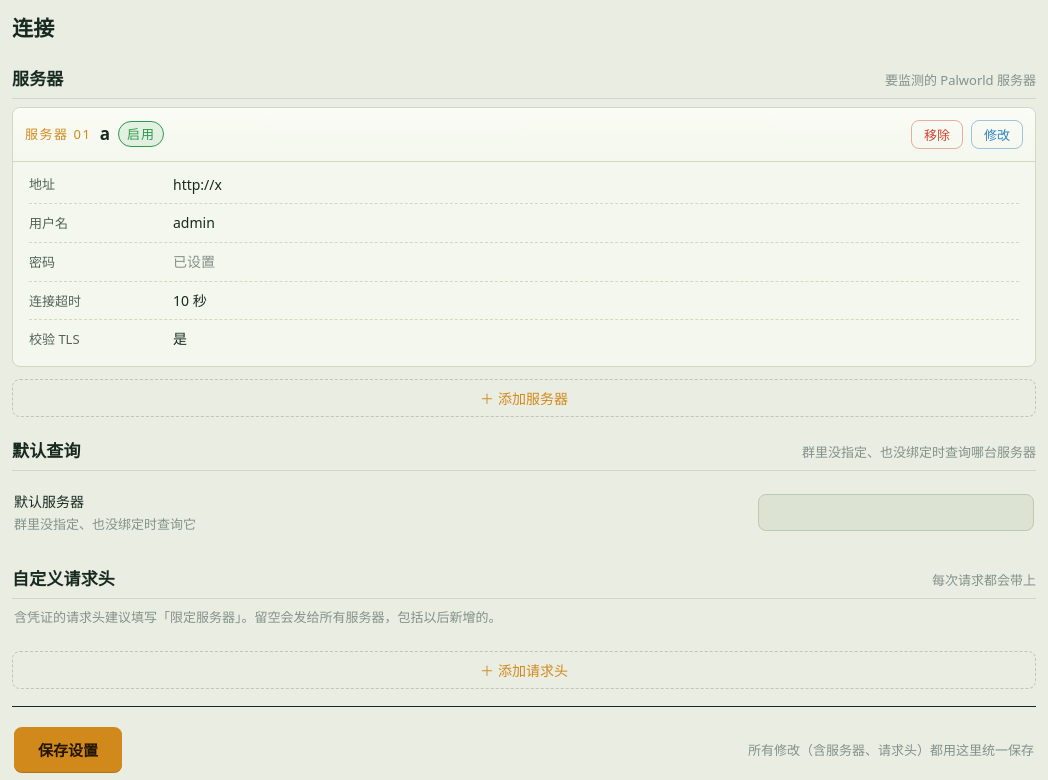
it: SettingsPanel › 保存业务错误 credential_redirect → 就地提示，不塌整页
Step 1. Click the button "保存设置" → {"x": 68, "y": 750}, box [14,727,122,772]
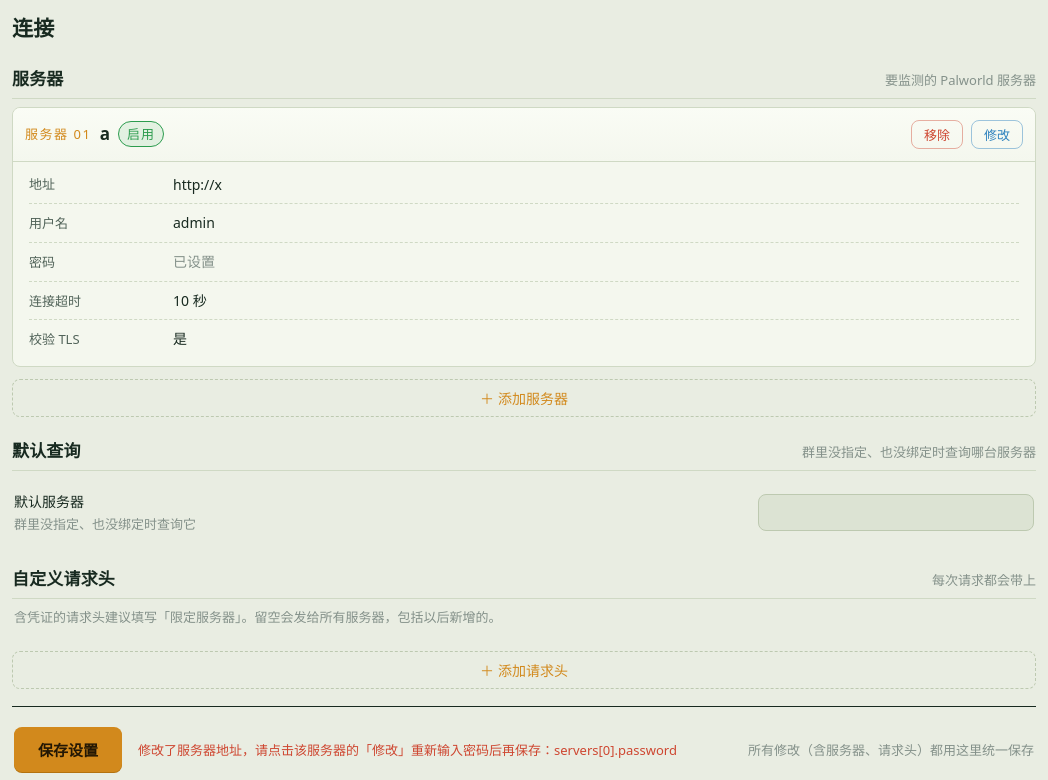
Check: the text "请点击该服务器的「修改」重新输入密码后再保存" is shown, box [138,740,677,758]
